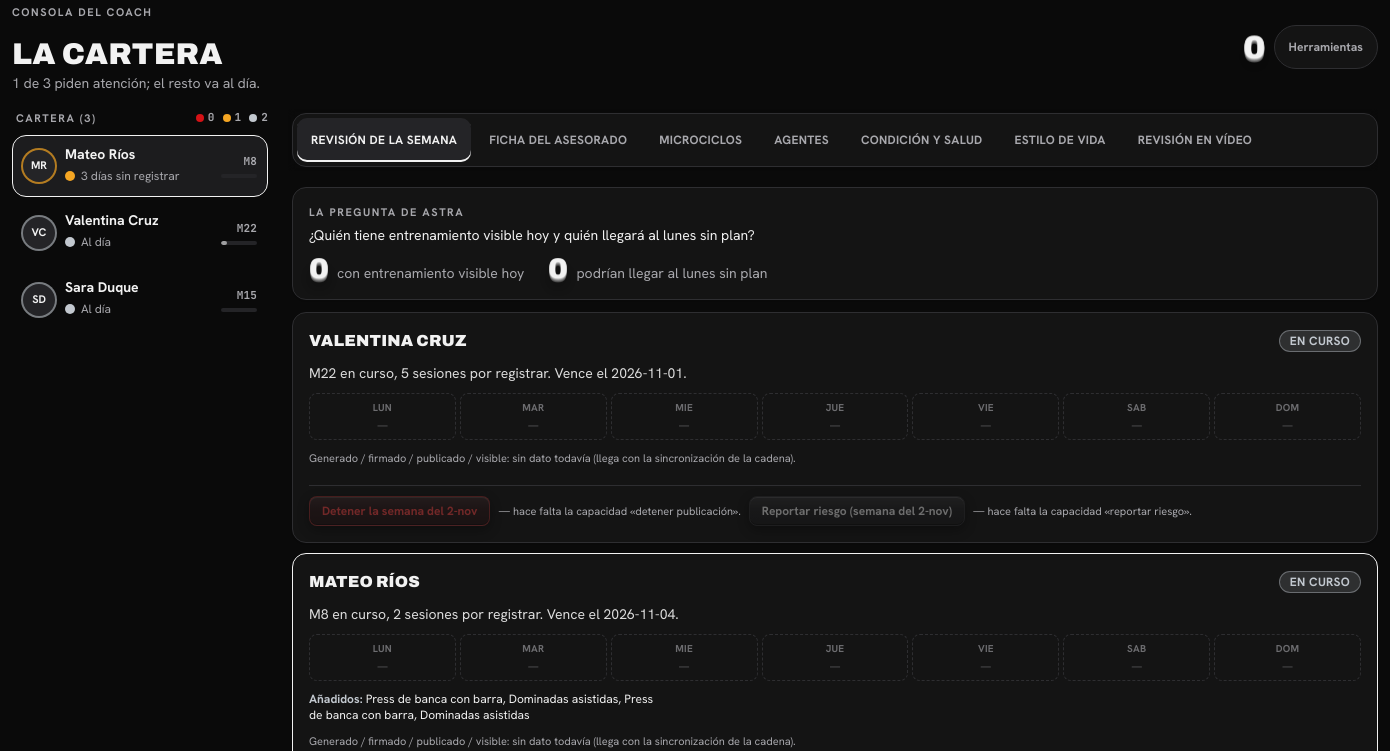
ConsolaCoachPage › la cabecera muestra las cinco cifras de la persona, con un vacío que dice qué falta
Click the tab "Ficha del asesorado": (558, 140) left=475, top=118, right=641, bottom=162
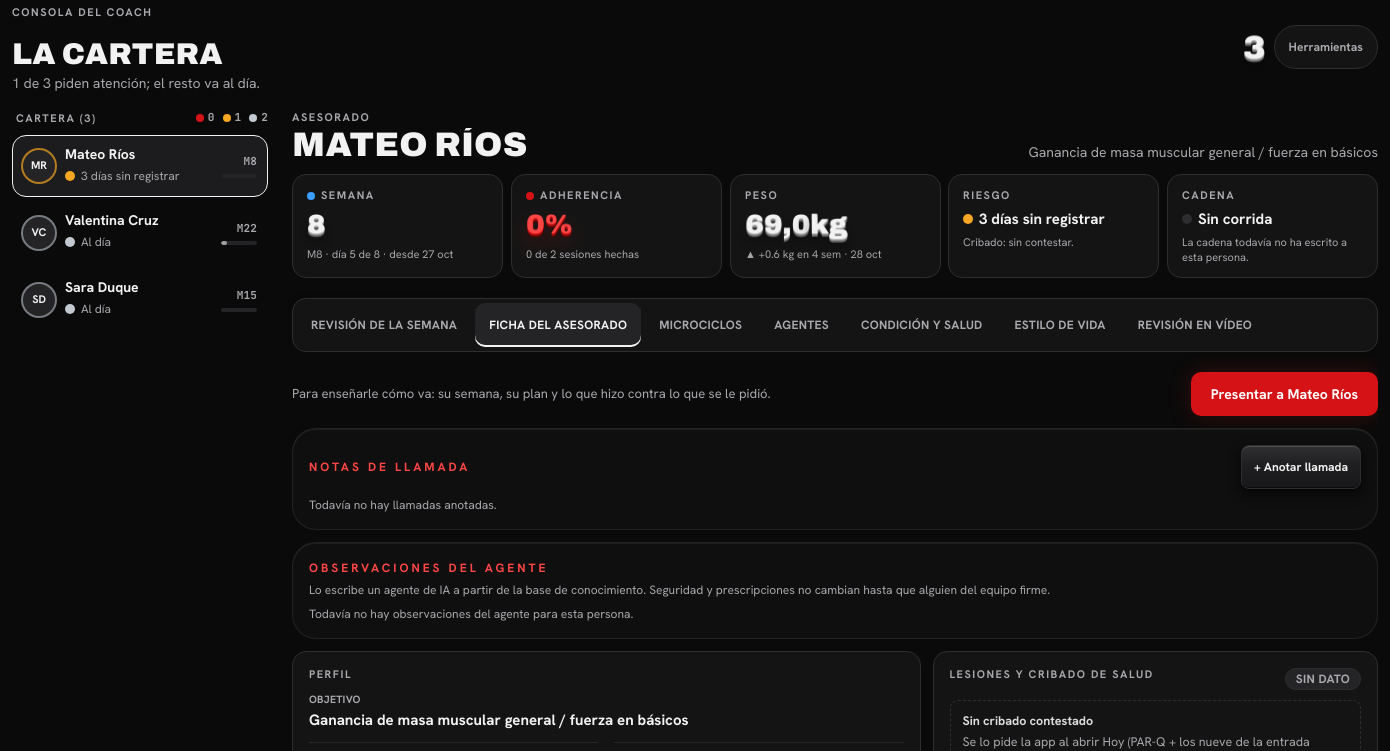
Now the text "Semana" is shown, box left=307, top=188, right=375, bottom=202
Now the text "Adherencia" is shown, box left=526, top=188, right=623, bottom=202
Now the text "Peso" is shown, box left=745, top=188, right=778, bottom=202
